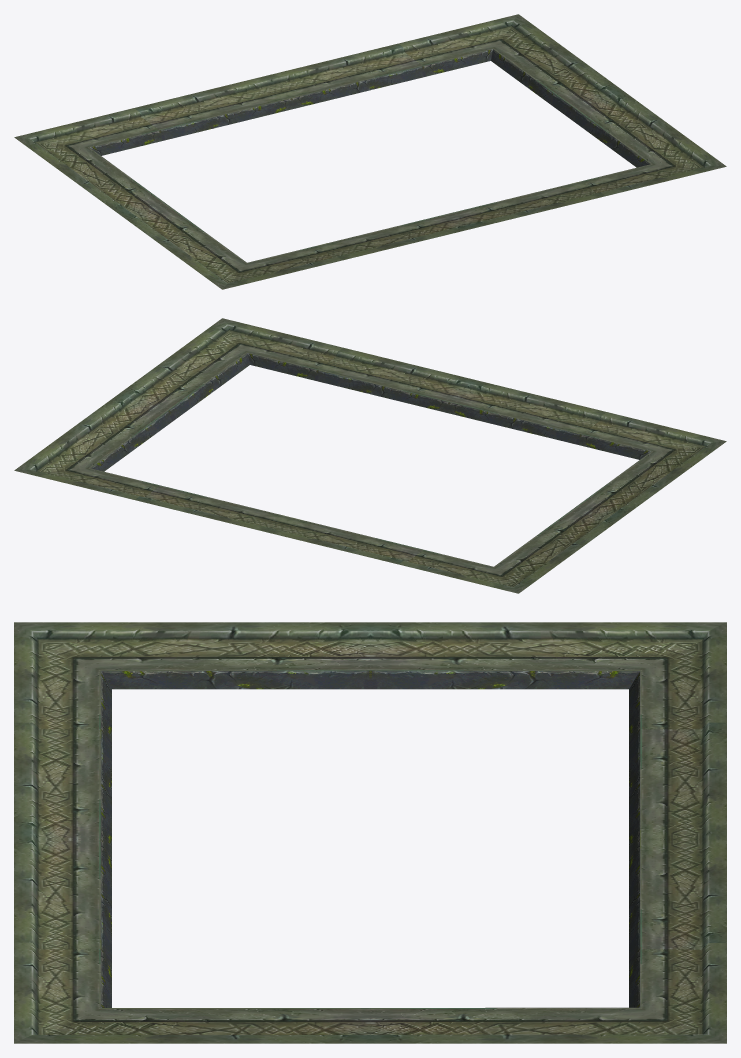
The model's file is F_dimian004.fbx.
3 views of the same model, one above another, from view 1: azimuth 30°, elevation 25°; view 2: azimuth 150°, elevation 25°; view 3: azimuth 270°, elevation 25° (orthographic). The views are drawn at different scales.
Parts seen in each view (by area): view 1: F_dimian004; view 2: F_dimian004; view 3: F_dimian004.
Boxes of the visible parts, left/top/right/bottom form: F_dimian004: left=14, top=14, right=726, bottom=289; F_dimian004: left=14, top=318, right=726, bottom=593; F_dimian004: left=14, top=622, right=726, bottom=1043.
Bounding box in the file's own units: 1655 × 37.63 × 1184.
